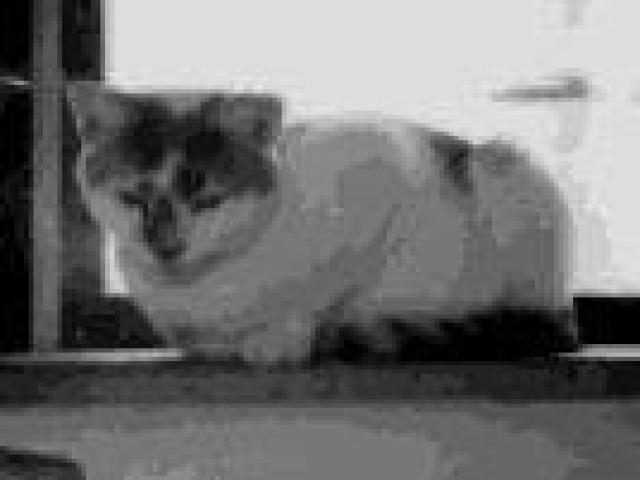cat: (39, 65, 579, 371)
